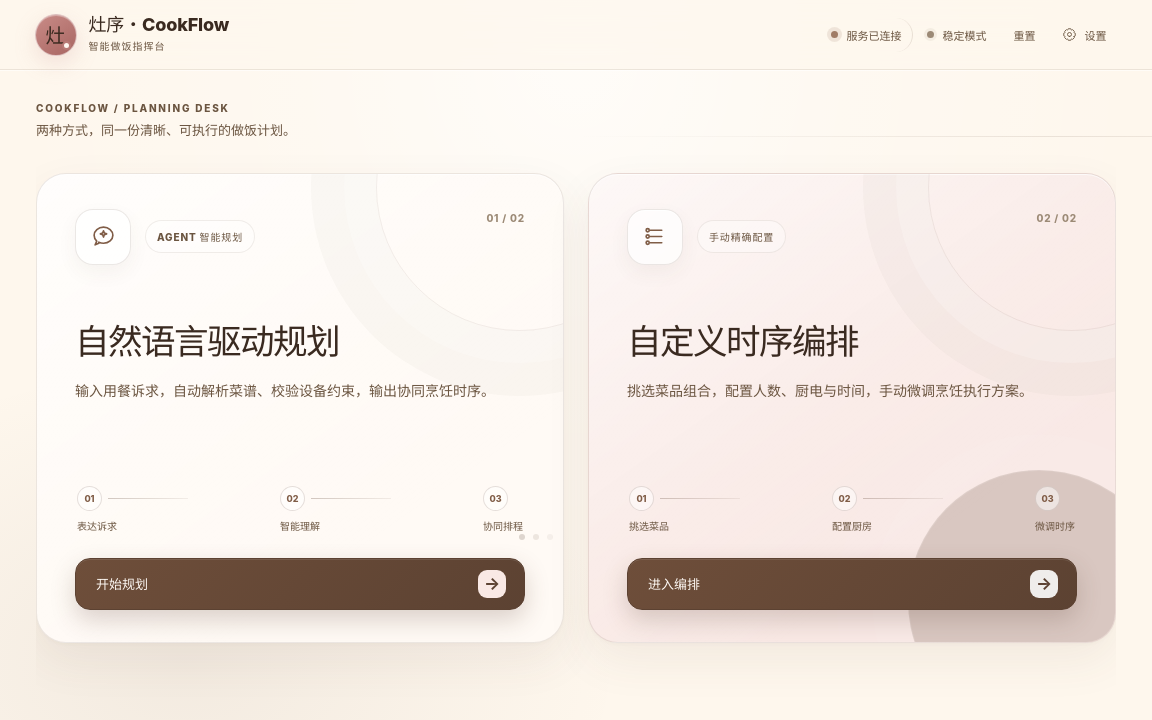
Test case: does not show manual progress in Agent planning
The width and height of the screenshot is (1152, 720).
Click the button "AGENT 智能规划" at (68, 408), box [36,173,564,643]
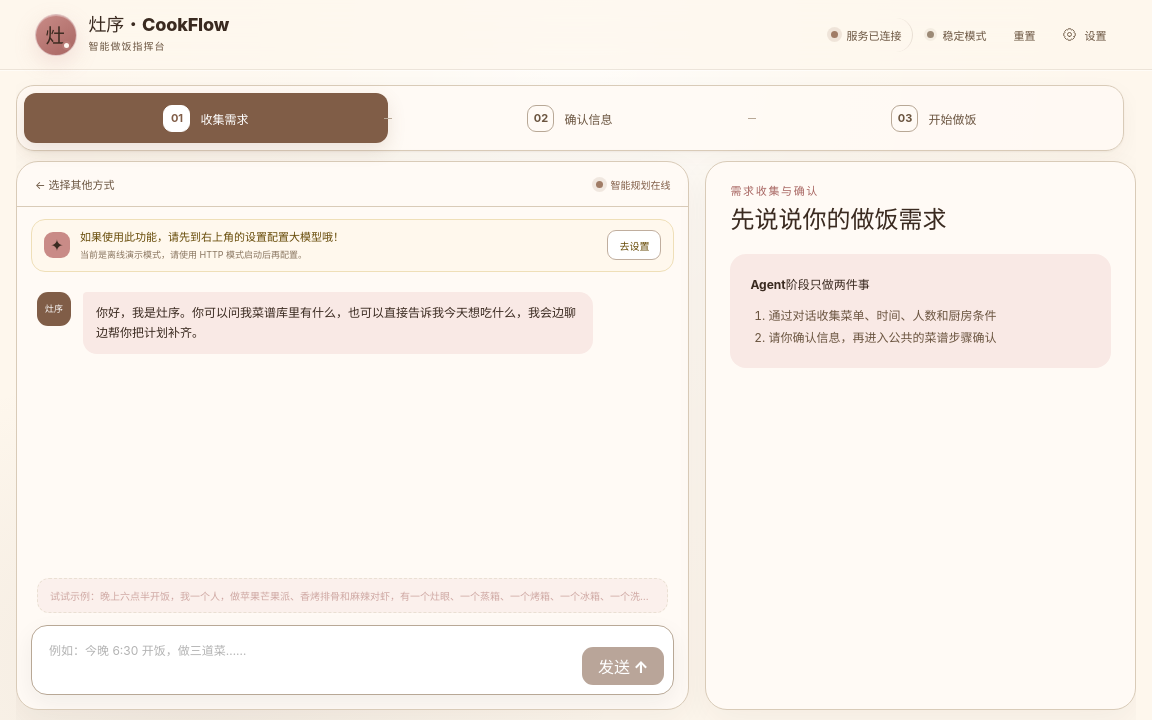
Check: the button "01 收集需求" is shown, box [24,93,388,143]
Check: the button "02 确认信息" is shown, box [388,93,752,143]
Check: the button "03 开始做饭" is shown, box [752,93,1116,143]
